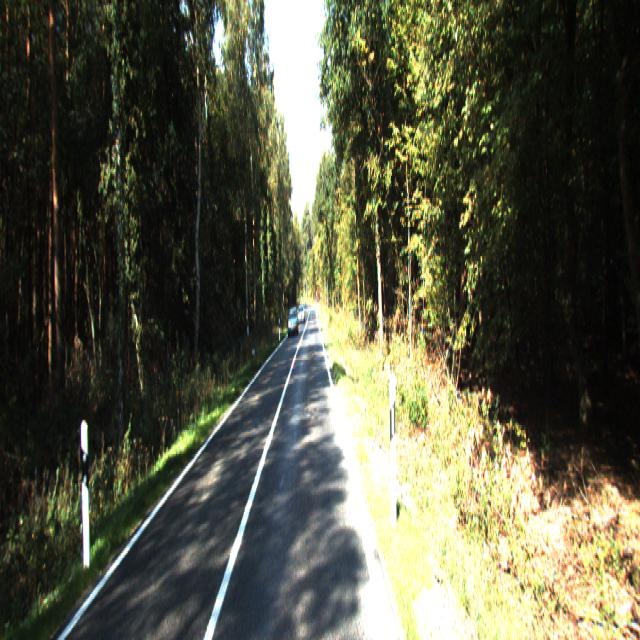Car: (287, 307, 299, 338)
